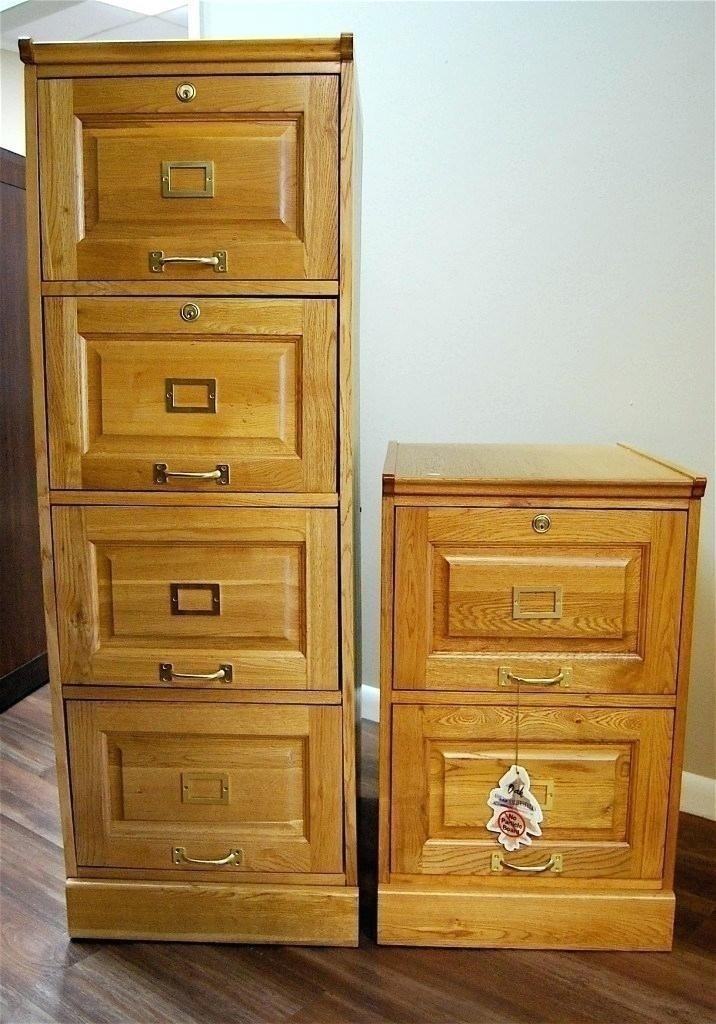Filing Cabinet: (24, 59, 359, 946), (378, 491, 699, 896)
